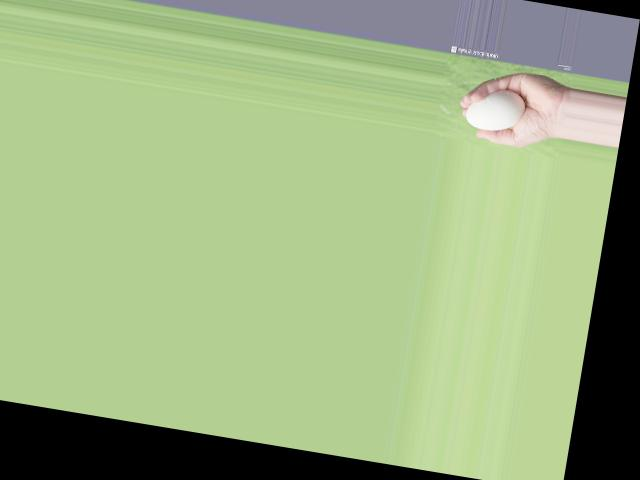egg: (464, 83, 528, 135)
